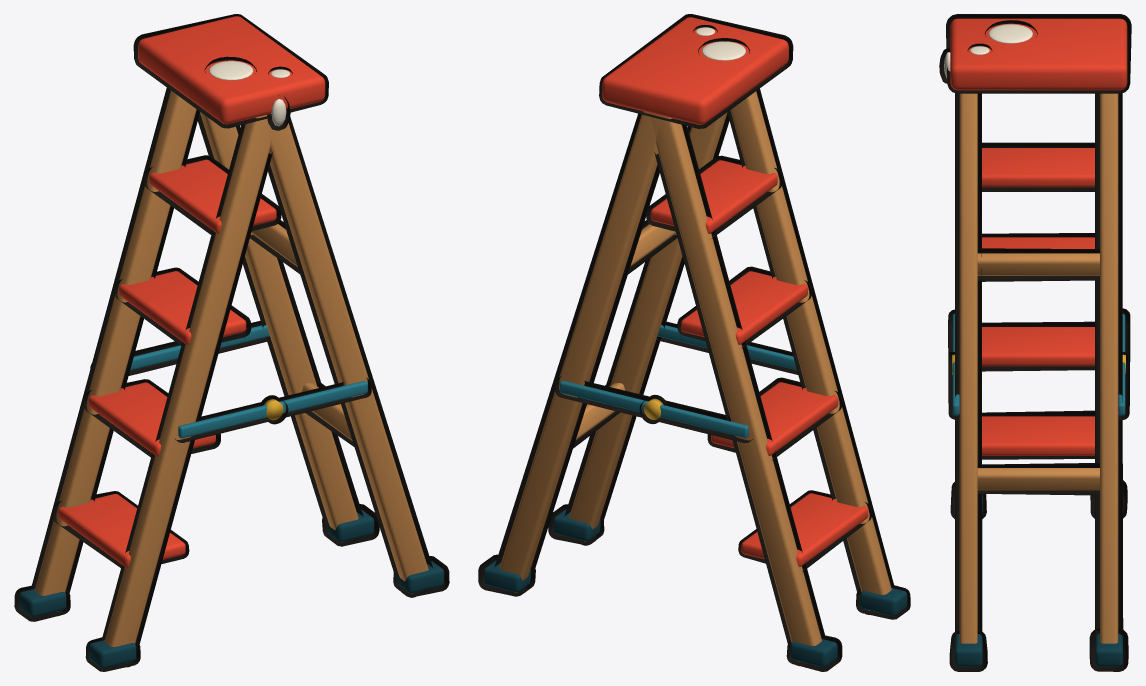
File: stepladder.glb
3 renders of one model, left to right at view 1: azimuth 30°, elevation 25°; view 2: azimuth 150°, elevation 25°; view 3: azimuth 270°, elevation 25°, orthographic.
Parts seen in each view (by area): view 1: Stepladder, Stepladder_outline; view 2: Stepladder, Stepladder_outline; view 3: Stepladder, Stepladder_outline.
Part boxes in pixels (x1=…): Stepladder: x1=19, y1=16, x2=444, y2=668; Stepladder_outline: x1=14, y1=14, x2=449, y2=671; Stepladder: x1=483, y1=17, x2=907, y2=667; Stepladder_outline: x1=478, y1=14, x2=910, y2=671; Stepladder: x1=944, y1=18, x2=1127, y2=666; Stepladder_outline: x1=939, y1=14, x2=1131, y2=671.
Bounding box in the file's own units: 2.91 × 4.37 × 1.37.
